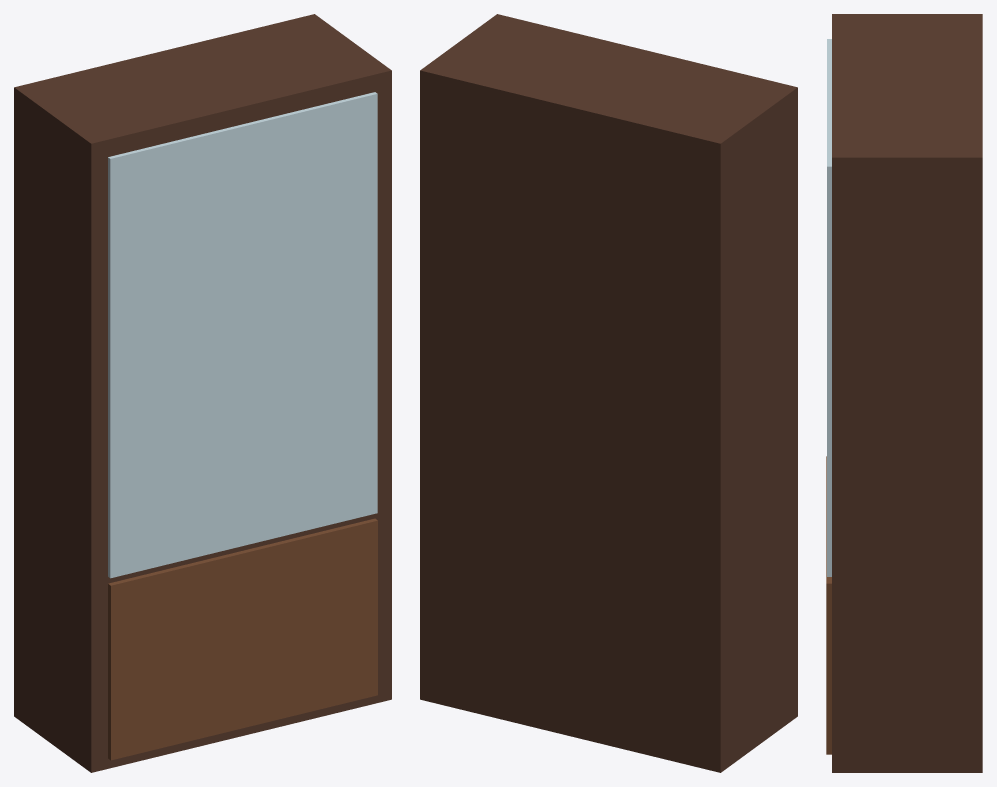
Rendered from cabinet_wine.glb.
3 renders of one model, left to right at view 1: azimuth 30°, elevation 25°; view 2: azimuth 150°, elevation 25°; view 3: azimuth 270°, elevation 25°, orthographic. The views are drawn at different scales.
Visible parts, largest first — view 1: cabinet_wine; view 2: cabinet_wine; view 3: cabinet_wine.
Boxes of the visible parts, left/top/right/bottom form: cabinet_wine: left=14, top=14, right=391, bottom=772; cabinet_wine: left=420, top=14, right=797, bottom=772; cabinet_wine: left=826, top=14, right=982, bottom=772.
Bounding box in the file's own units: 0.9 × 1.8 × 0.415.
